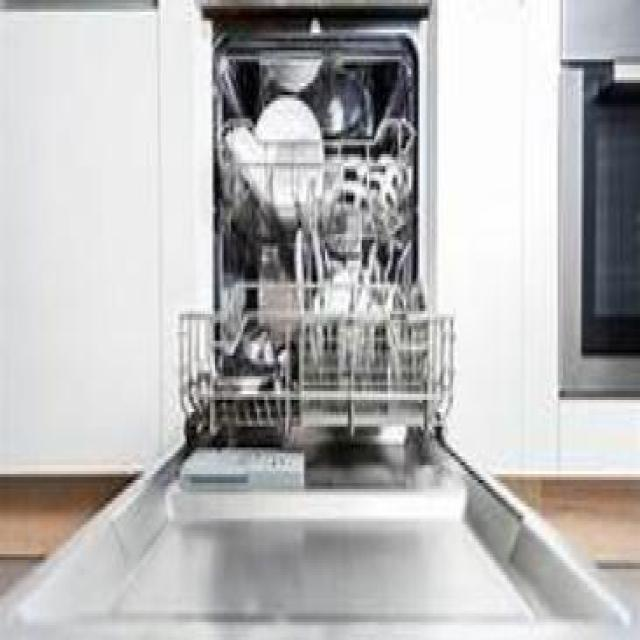dishwasher: (176, 0, 439, 456)
